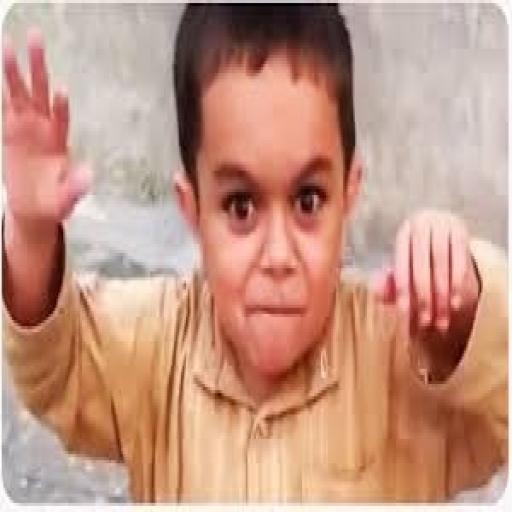dancing: (0, 3, 507, 506)
